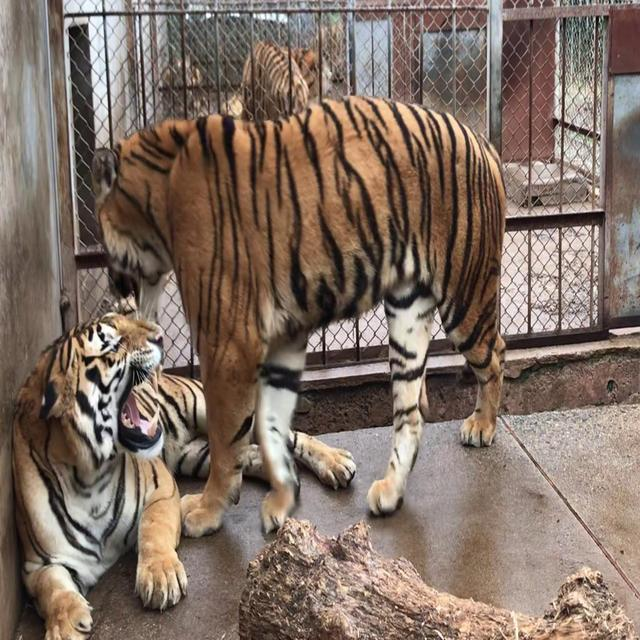tiger: (94, 92, 544, 540), (6, 299, 373, 640), (240, 39, 334, 118), (159, 45, 217, 116)
